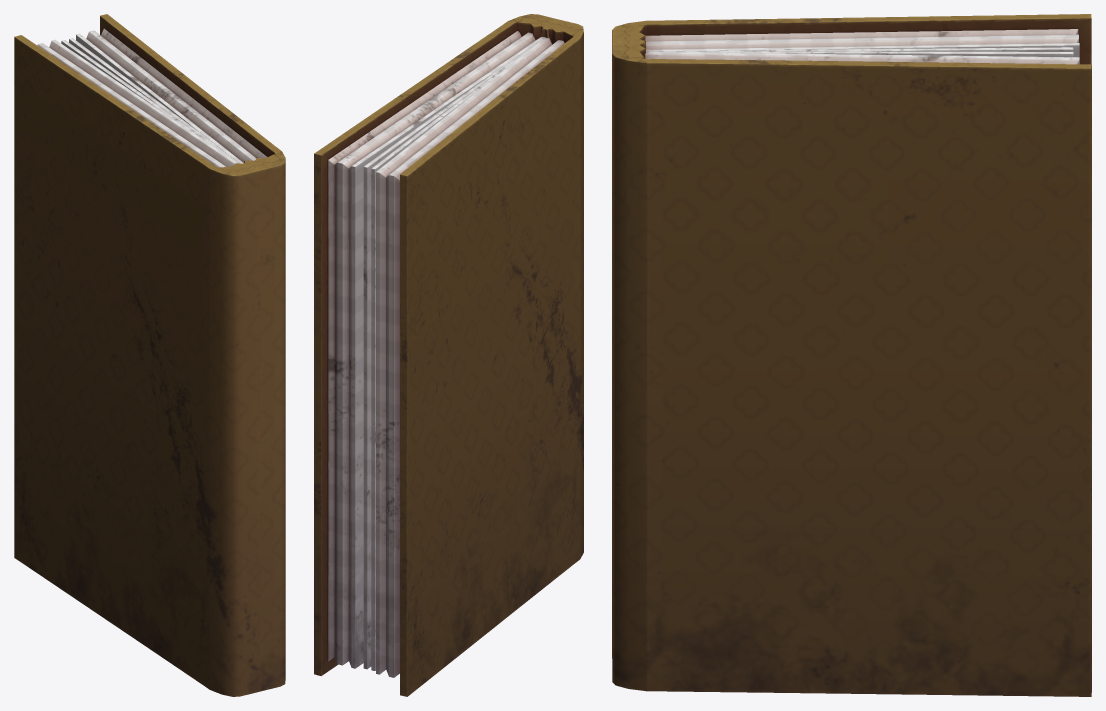
Rendered from Book4.fbx.
3 views of the same model, side by side, from view 1: azimuth 30°, elevation 25°; view 2: azimuth 150°, elevation 25°; view 3: azimuth 270°, elevation 25° (orthographic). The views are drawn at different scales.
Visible parts, largest first — view 1: libro4Detras, libro4Delante, Pagina1Libro4, Pagina2Libro4; view 2: libro4Detras, libro4Delante, Pagina1Libro4, Pagina2Libro4; view 3: libro4Delante, libro4Detras, Pagina1Libro4, Pagina2Libro4.
Boxes of the visible parts, x1,y1,x2,y2 form: libro4Detras: (14, 35, 260, 696); libro4Delante: (76, 14, 285, 691); Pagina1Libro4: (69, 38, 238, 162); Pagina2Libro4: (61, 40, 235, 160); libro4Detras: (376, 19, 583, 696); libro4Delante: (314, 14, 557, 675); Pagina1Libro4: (363, 56, 518, 669); Pagina2Libro4: (371, 43, 536, 670); libro4Delante: (612, 40, 1091, 696); libro4Detras: (612, 14, 1091, 658); Pagina1Libro4: (664, 51, 1073, 57); Pagina2Libro4: (669, 47, 1073, 52).
Size of the model in its own units: 17.02 by 90.92 by 62.92.
Materials: 2 (2 with a texture image).
